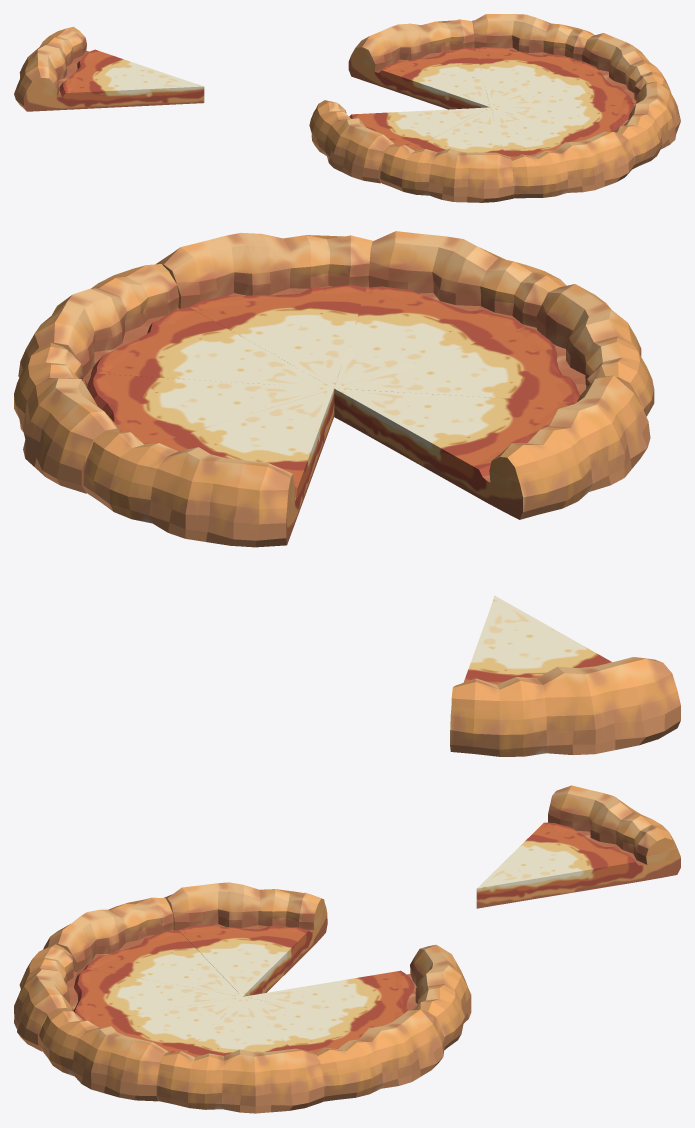
Rendered from pizza_00.fbx.
The picture shows the model from 3 angles, top to bottom: view 1: azimuth 30°, elevation 25°; view 2: azimuth 150°, elevation 25°; view 3: azimuth 270°, elevation 25°; orthographic projection. The views are drawn at different scales.
Parts seen in each view (by area): view 1: Cylinder.003, Cylinder.002, Cylinder.005, Cylinder.006, Cylinder.004, Cylinder.001, Cylinder.007, Cylinder.008; view 2: Cylinder.004, Cylinder.002, Cylinder.003, Cylinder.007, Cylinder.006, Cylinder.001, Cylinder.008, Cylinder.005; view 3: Cylinder.003, Cylinder.008, Cylinder.004, Cylinder.001, Cylinder.007, Cylinder.005, Cylinder.006, Cylinder.002.
Part boxes in pixels (box(x1,y1,x2,y2)): Cylinder.003: box(14, 26, 204, 111); Cylinder.002: box(348, 19, 490, 109); Cylinder.005: box(380, 107, 513, 202); Cylinder.006: box(490, 107, 633, 198); Cylinder.004: box(309, 100, 489, 183); Cylinder.001: box(472, 14, 594, 106); Cylinder.007: box(491, 81, 680, 169); Cylinder.008: box(491, 33, 671, 107); Cylinder.004: box(334, 375, 650, 519); Cylinder.002: box(83, 388, 334, 547); Cylinder.003: box(450, 595, 680, 756); Cylinder.007: box(156, 232, 372, 388); Cylinder.006: box(334, 231, 566, 388); Cylinder.001: box(14, 342, 332, 493); Cylinder.008: box(18, 264, 333, 388); Cylinder.005: box(334, 284, 654, 416); Cylinder.003: box(476, 785, 680, 908); Cylinder.008: box(156, 997, 324, 1113); Cylinder.004: box(164, 882, 327, 996); Cylinder.001: box(243, 997, 444, 1101); Cylinder.007: box(39, 997, 241, 1101); Cylinder.005: box(43, 897, 241, 996); Cylinder.006: box(14, 944, 242, 1051); Cylinder.002: box(243, 944, 471, 1049).
Size of the model in its own units: 491 by 40.76 by 469.
1 material, 1 textured.
